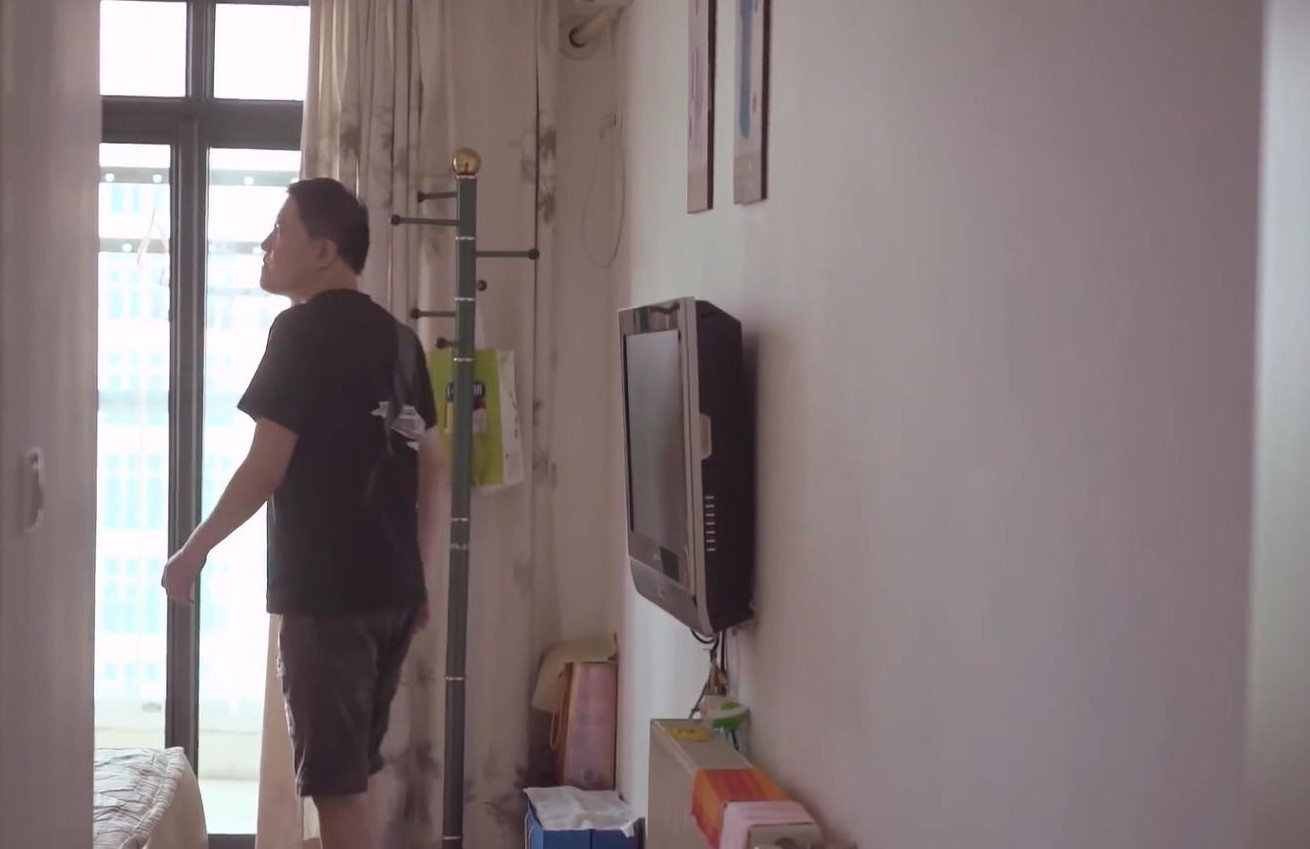without_mask: (266, 212, 323, 281)
